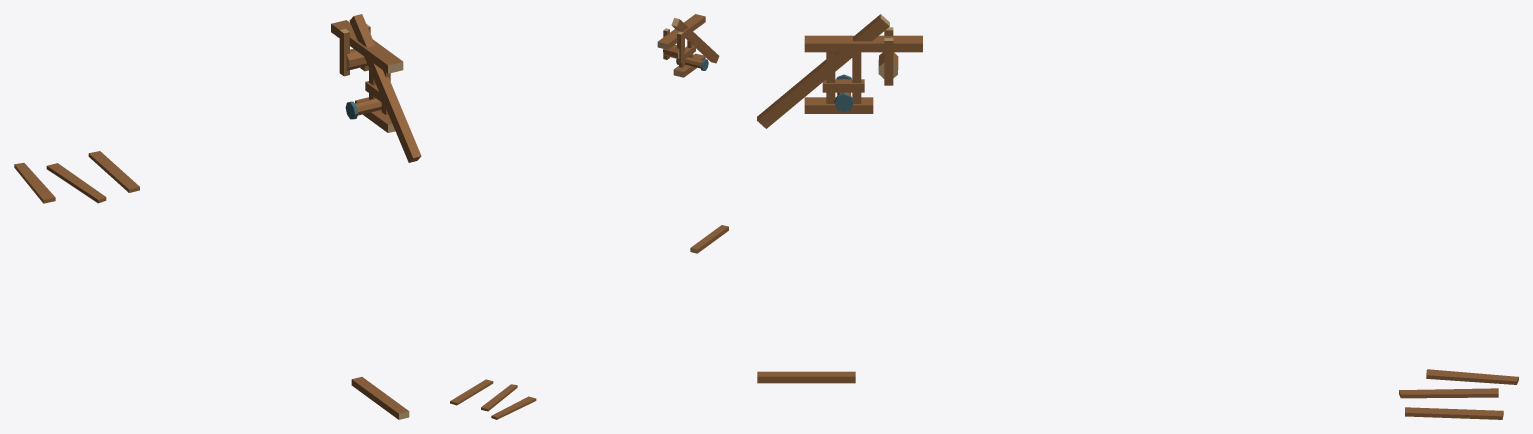
3 renders of one model, left to right at view 1: azimuth 30°, elevation 25°; view 2: azimuth 150°, elevation 25°; view 3: azimuth 270°, elevation 25°, orthographic. The views are drawn at different scales.
Parts seen in each view (by area): view 1: Cylinder1717_brown_0, Box038_brown_0, Box15408_brown_0; view 2: Cylinder1717_brown_0, Box038_brown_0, Box15408_brown_0; view 3: Cylinder1717_brown_0, Box038_brown_0, Box15408_brown_0.
Boxes of the visible parts, x1,y1,x2,y2 form: Cylinder1717_brown_0: (331, 14, 421, 162); Box038_brown_0: (14, 151, 139, 203); Box15408_brown_0: (351, 377, 408, 419); Cylinder1717_brown_0: (658, 14, 719, 77); Box038_brown_0: (450, 379, 536, 419); Box15408_brown_0: (691, 225, 728, 253); Cylinder1717_brown_0: (757, 14, 922, 128); Box038_brown_0: (1399, 369, 1518, 419); Box15408_brown_0: (757, 371, 855, 383).
Bounding box in the file's own units: 426 × 1613 × 2907.
